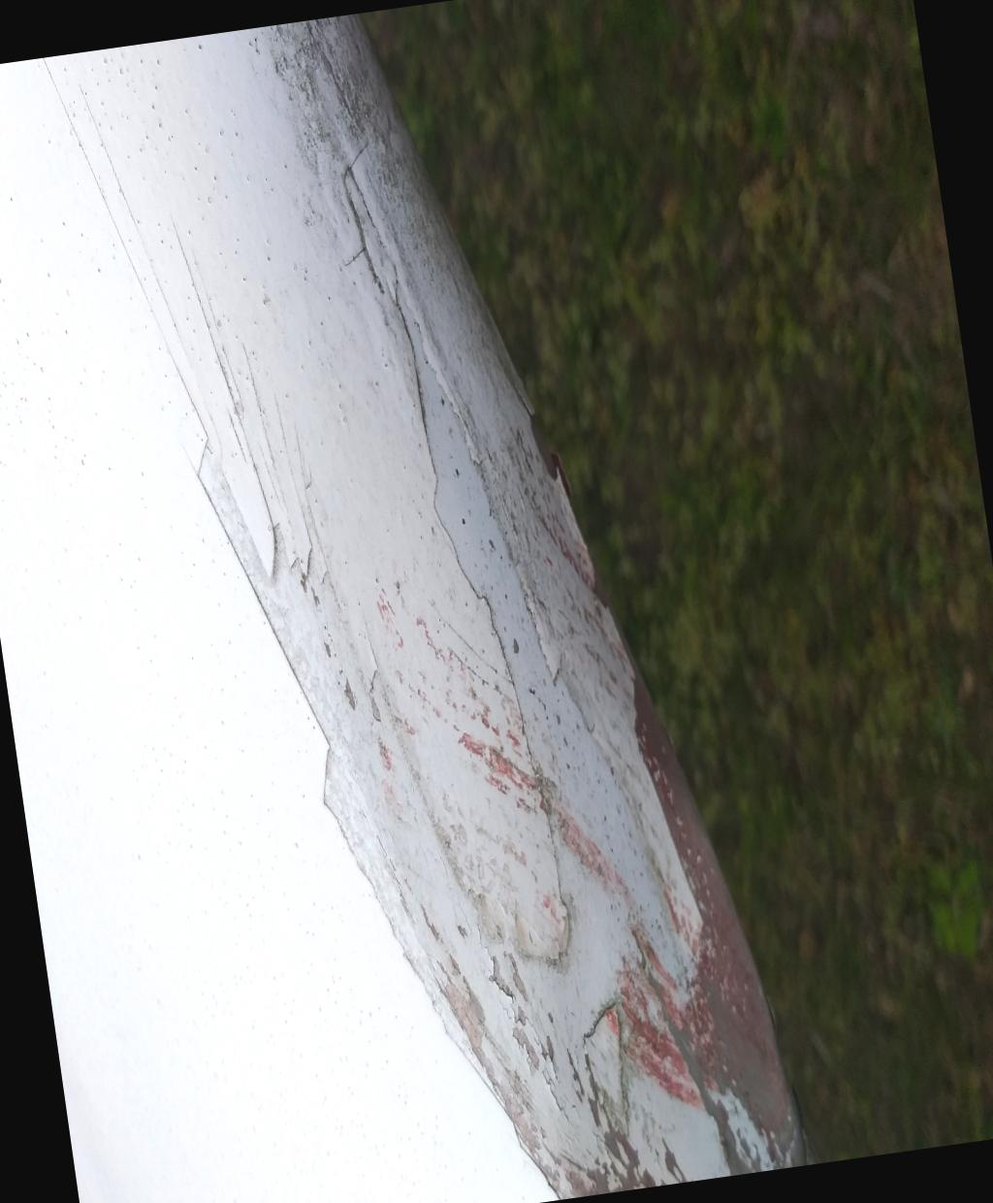corrosion: (166, 0, 576, 603)
